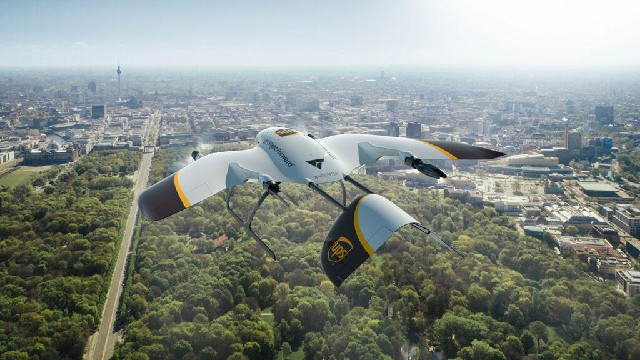maybay_khongnguoilai: (143, 126, 508, 275)
